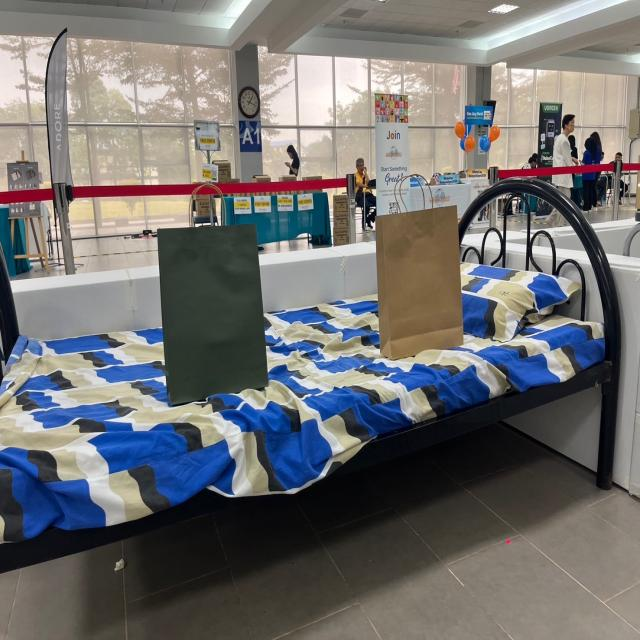bag: (155, 208, 263, 397), (373, 190, 467, 353)
